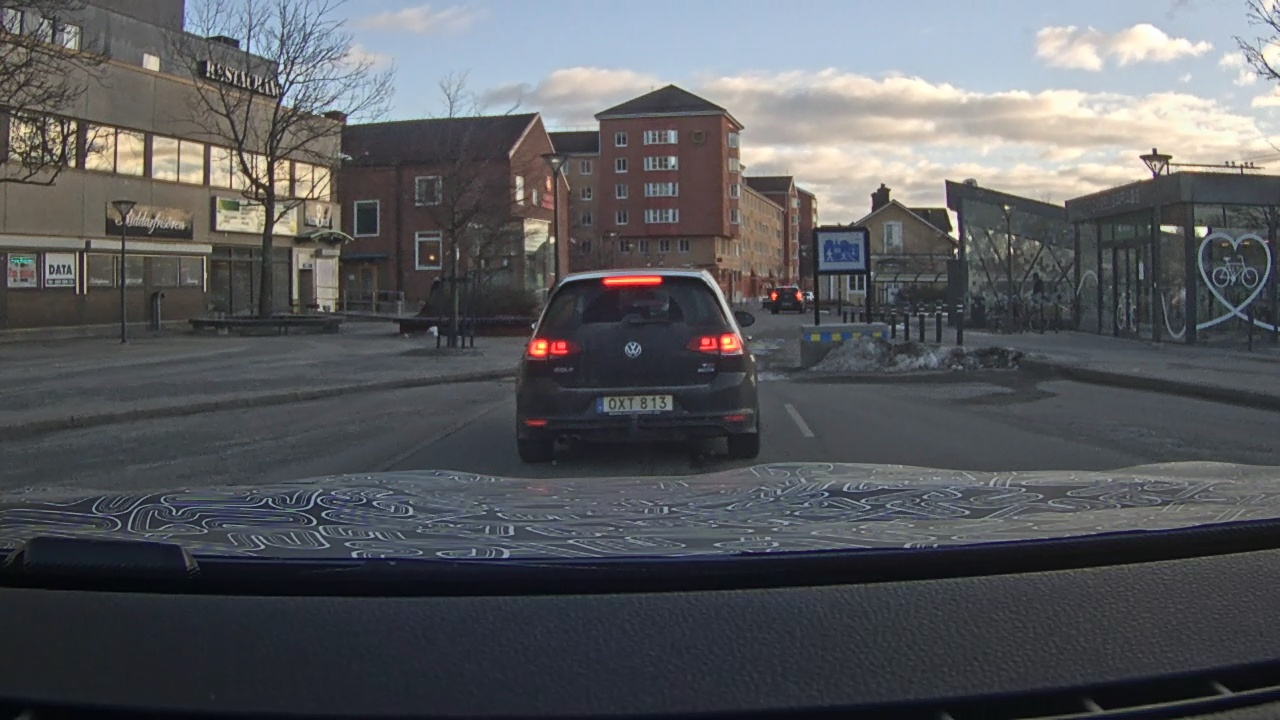Playground_Residential_Area_Begin: (816, 227, 870, 272)
